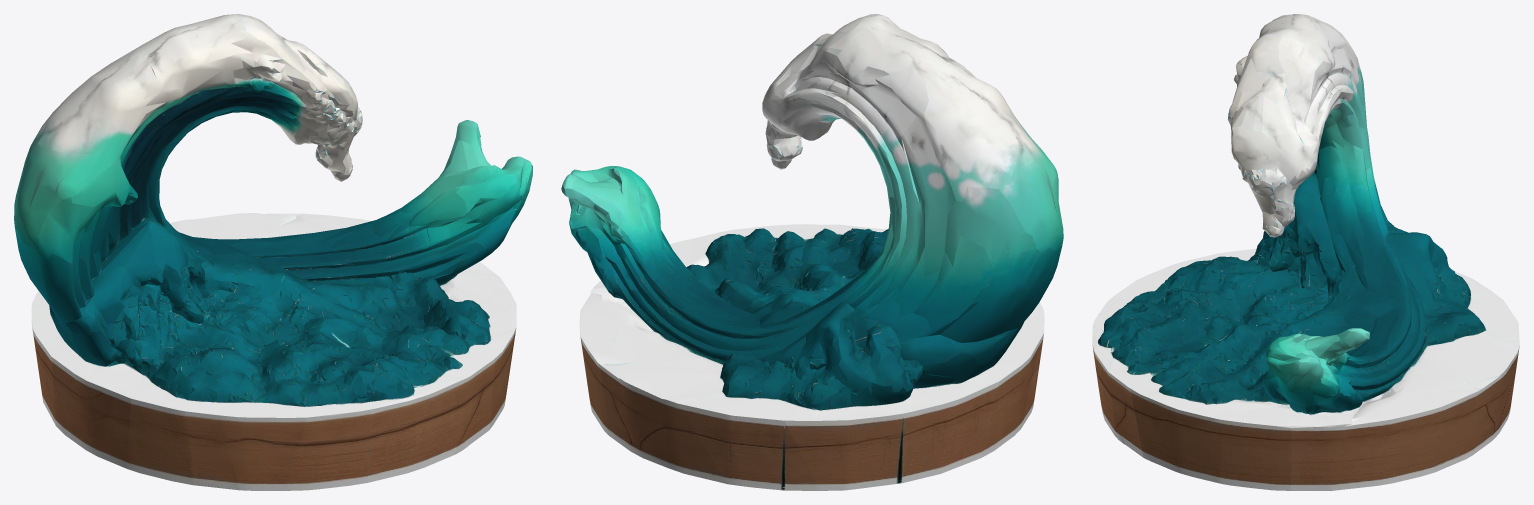
Rendered from sea-glass-wave.glb.
3 views of the same model, side by side, from view 1: azimuth 30°, elevation 25°; view 2: azimuth 150°, elevation 25°; view 3: azimuth 270°, elevation 25° (orthographic). The views are drawn at different scales.
Bounding box in the file's own units: 1.9 × 1.42 × 1.57.
Materials: 1 (1 with a texture image).
